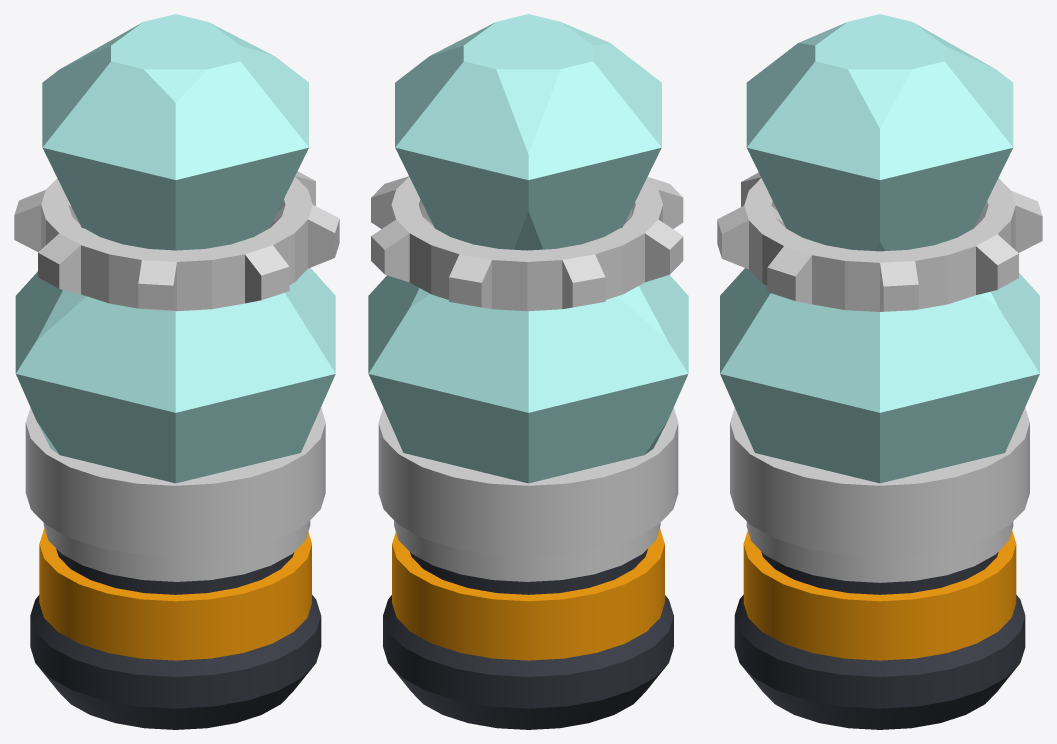
The model's file is tower_kohinoor_diamond.obj.
3 renders of one model, left to right at view 1: azimuth 30°, elevation 25°; view 2: azimuth 150°, elevation 25°; view 3: azimuth 270°, elevation 25°, orthographic.
Visible parts, largest first — view 1: mergedBlocks; view 2: mergedBlocks; view 3: mergedBlocks.
Part boxes in pixels (bbox=[...]): mergedBlocks: bbox=[14, 14, 339, 729]; mergedBlocks: bbox=[368, 14, 688, 729]; mergedBlocks: bbox=[717, 14, 1042, 729].
Bounding box in the file's own units: 1.22 × 2.31 × 1.07.
